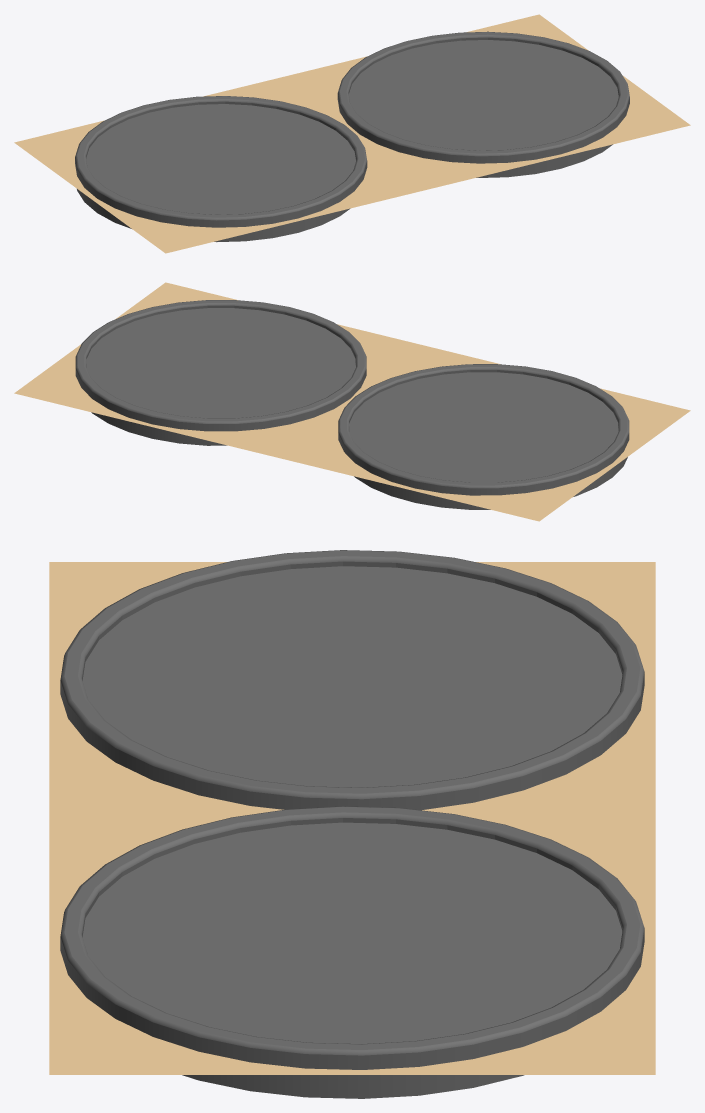
Rendered from floor_vents.fbx.
3 renders of one model, top to bottom at view 1: azimuth 30°, elevation 25°; view 2: azimuth 150°, elevation 25°; view 3: azimuth 270°, elevation 25°, orthographic. The views are drawn at different scales.
Visible parts, largest first — view 1: floor_vents; view 2: floor_vents; view 3: floor_vents.
Boxes of the visible parts, <box> form: floor_vents: <box>14,14,690,253</box>; floor_vents: <box>14,282,690,521</box>; floor_vents: <box>49,550,655,1098</box>.
Size of the model in its own units: 300 by 12.85 by 150.
